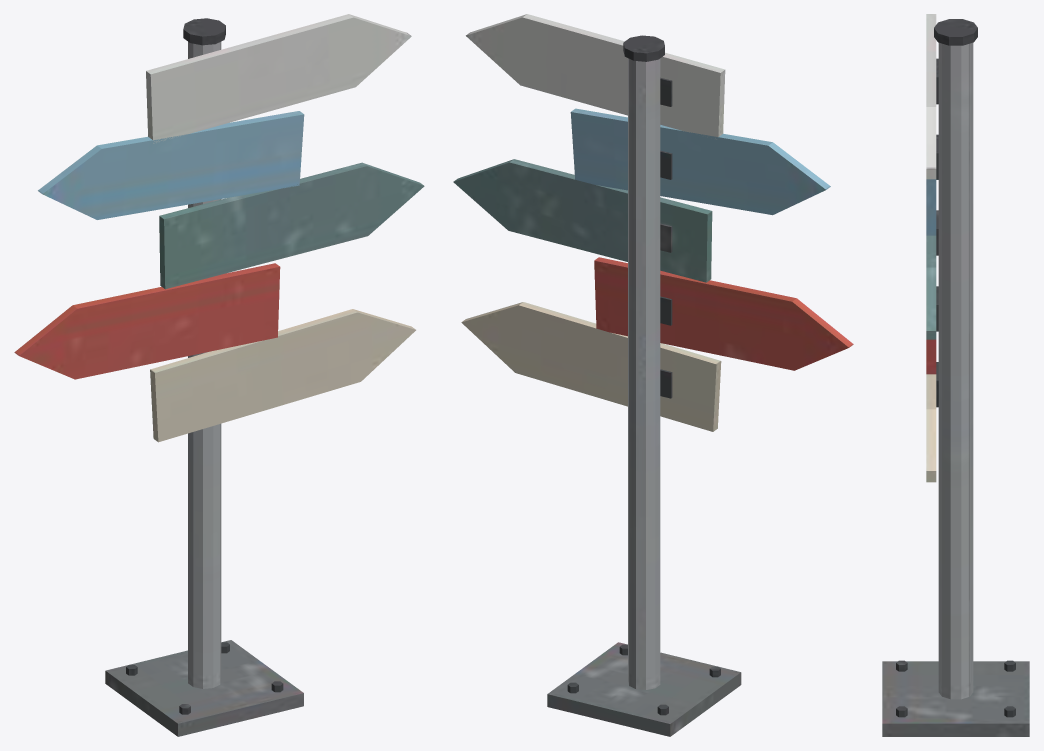
File: road_signs_tex.glb
The picture shows the model from 3 angles, left to right: view 1: azimuth 30°, elevation 25°; view 2: azimuth 150°, elevation 25°; view 3: azimuth 270°, elevation 25°; orthographic projection. The views are drawn at different scales.
Visible parts, largest first — view 1: road_signs_base; view 2: road_signs_base; view 3: road_signs_base.
Boxes of the visible parts, bbox=[...] form: road_signs_base: bbox=[14, 14, 424, 736]; road_signs_base: bbox=[453, 14, 853, 736]; road_signs_base: bbox=[882, 14, 1029, 736].
Size of the model in its own units: 0.2417 by 0.38 by 0.075.
Materials: 1 (1 with a texture image).
